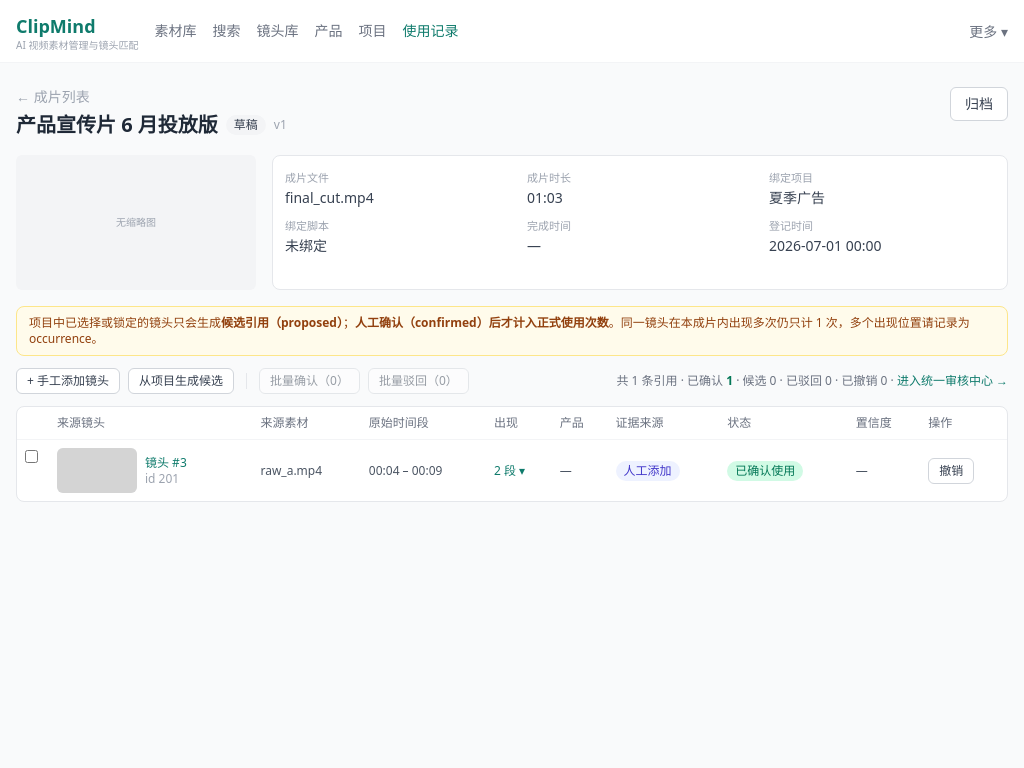
Scenario: FinalVideoDetail › 展开显示 occurrence 与事件；多段出现不改变确认计数展示
Expected: the element with test id "fv-usage-stats" shows "已确认 1", [616,373,1008,389]
Click the button with test id "usage-occ-toggle-11".
click(510, 470)  # box [494,462,525,478]
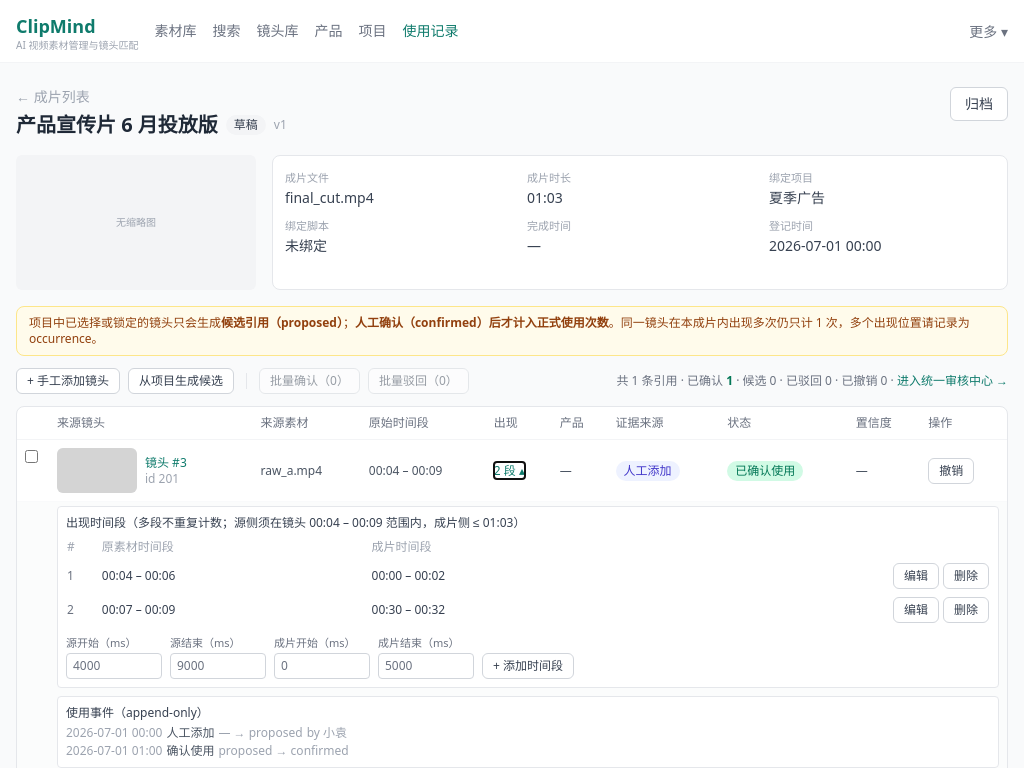
Expected: the text "人工添加" in the row of "by" is shown, [166,724,214,741]
Expected: the text "确认使用" is shown, [166,743,214,759]
